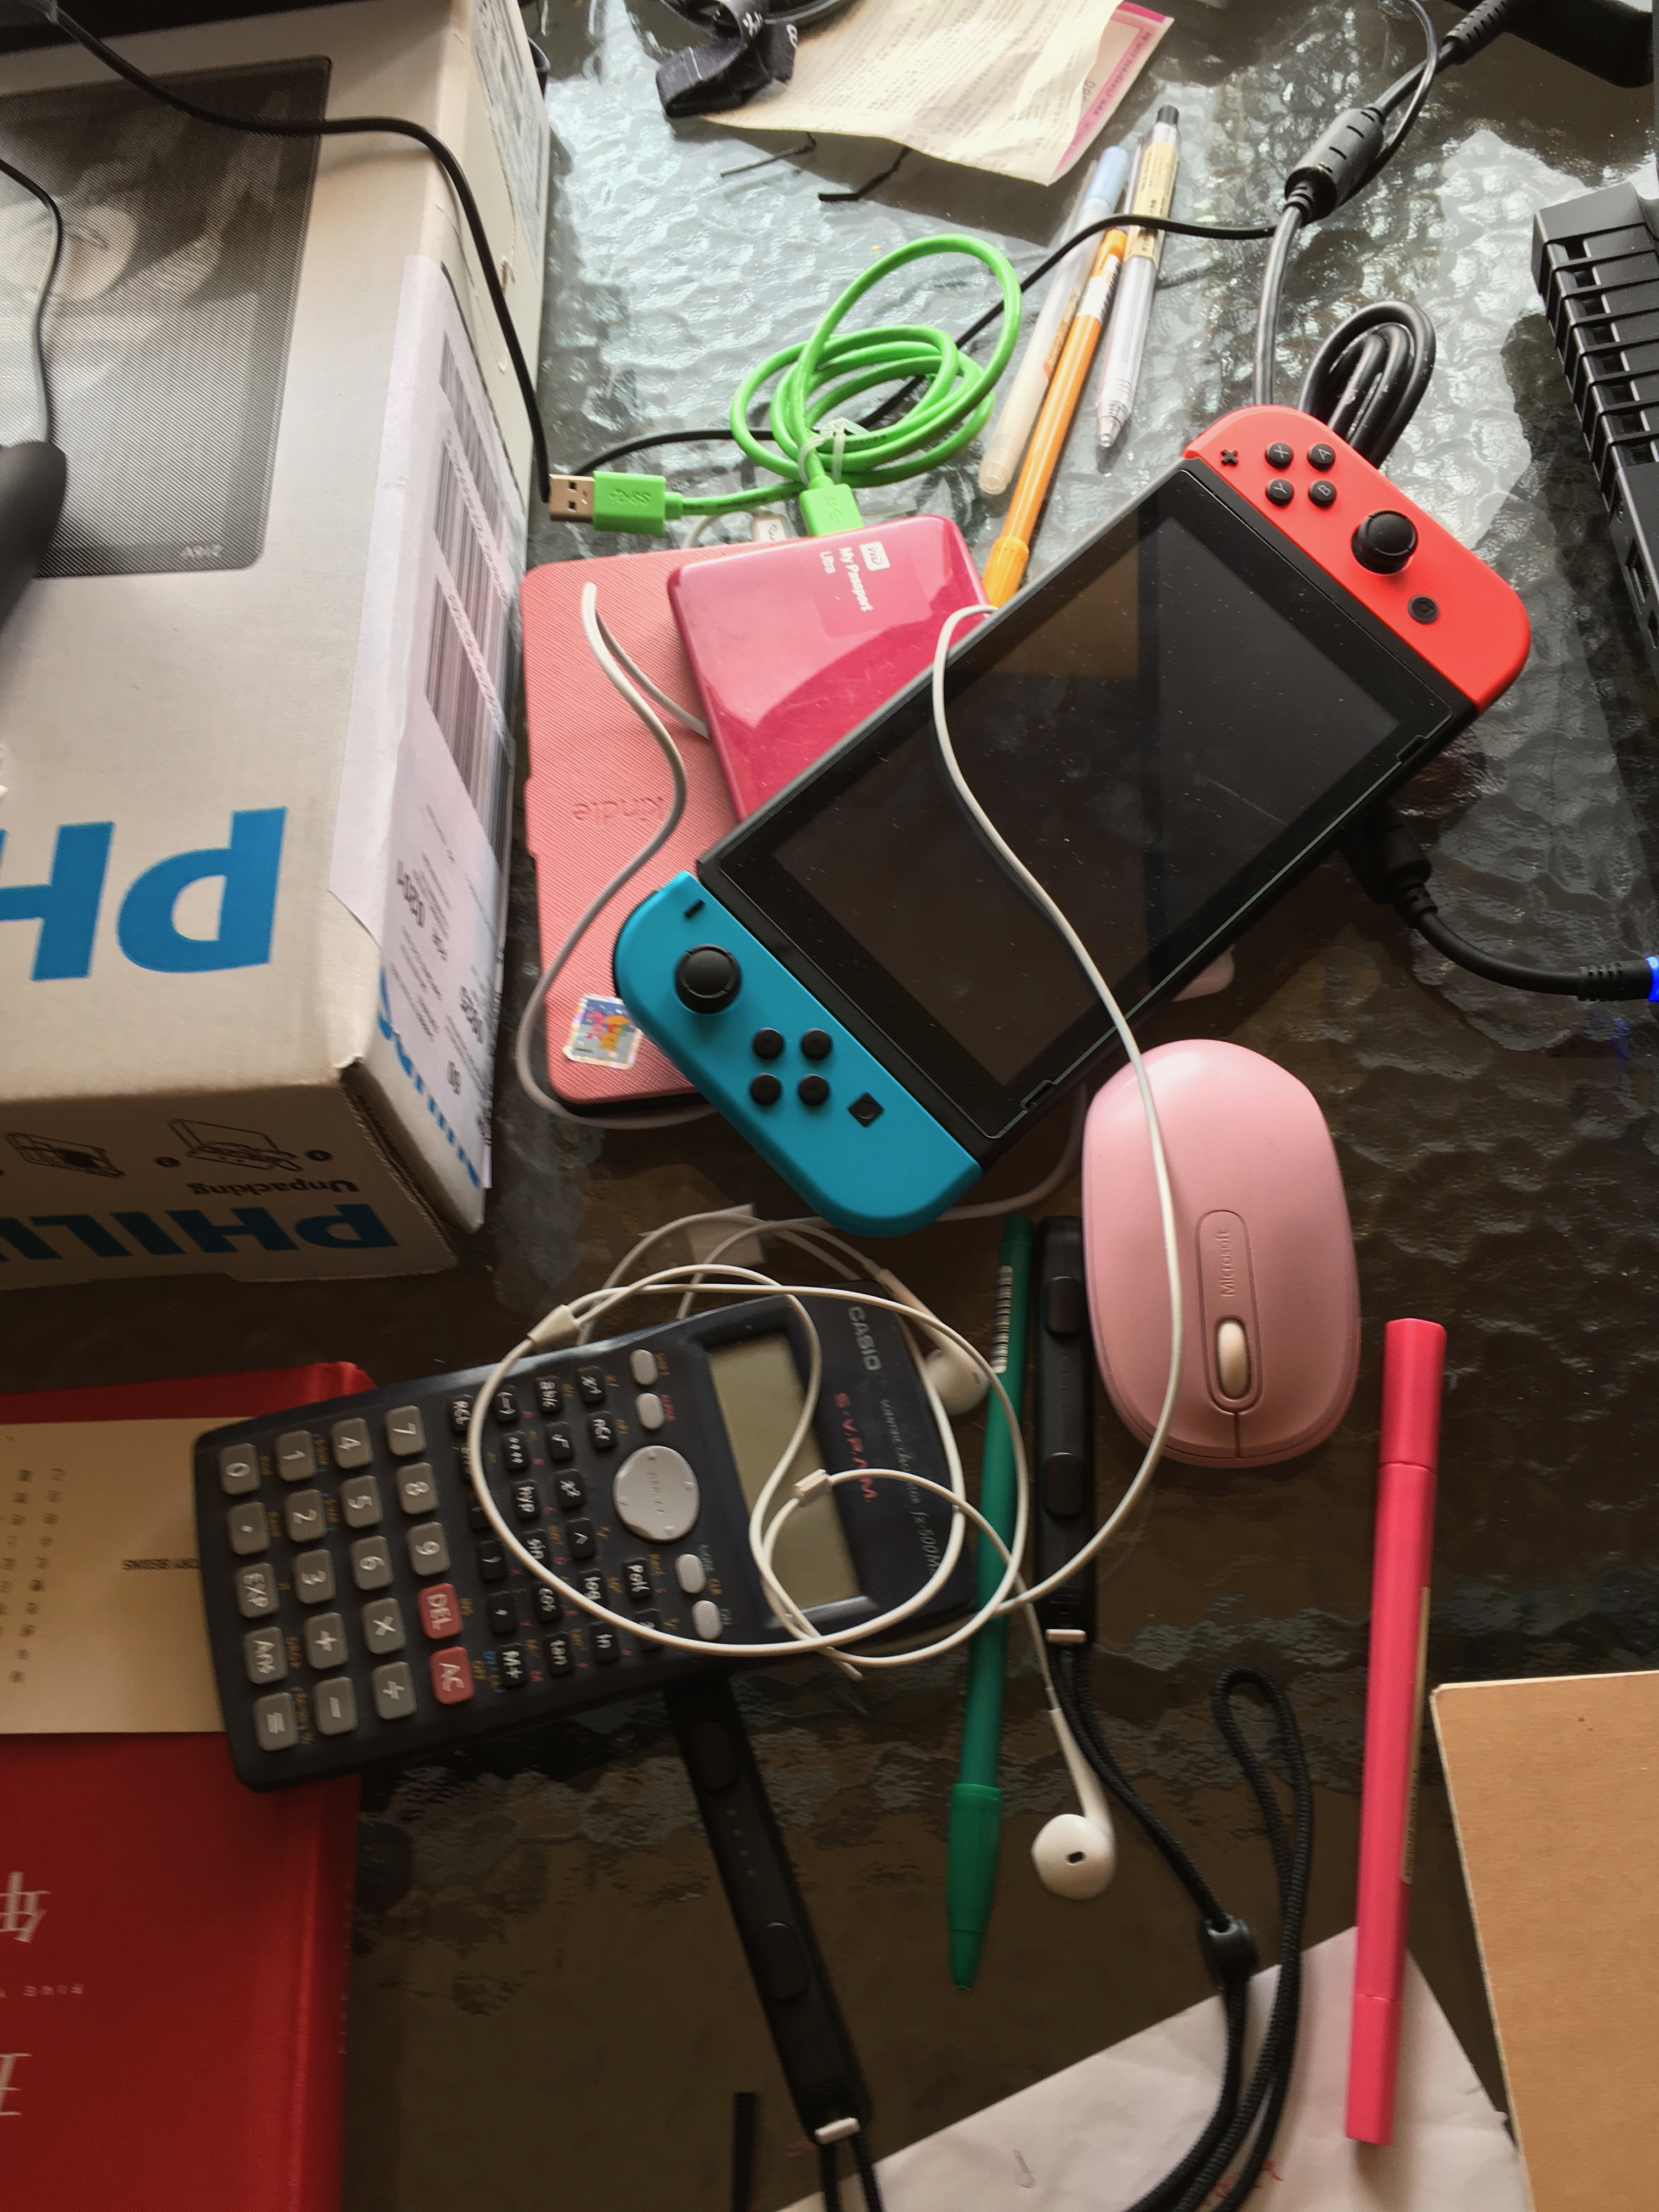Calculator: (176, 1275, 997, 1815)
NintendoSwitch: (599, 388, 1542, 1249)
